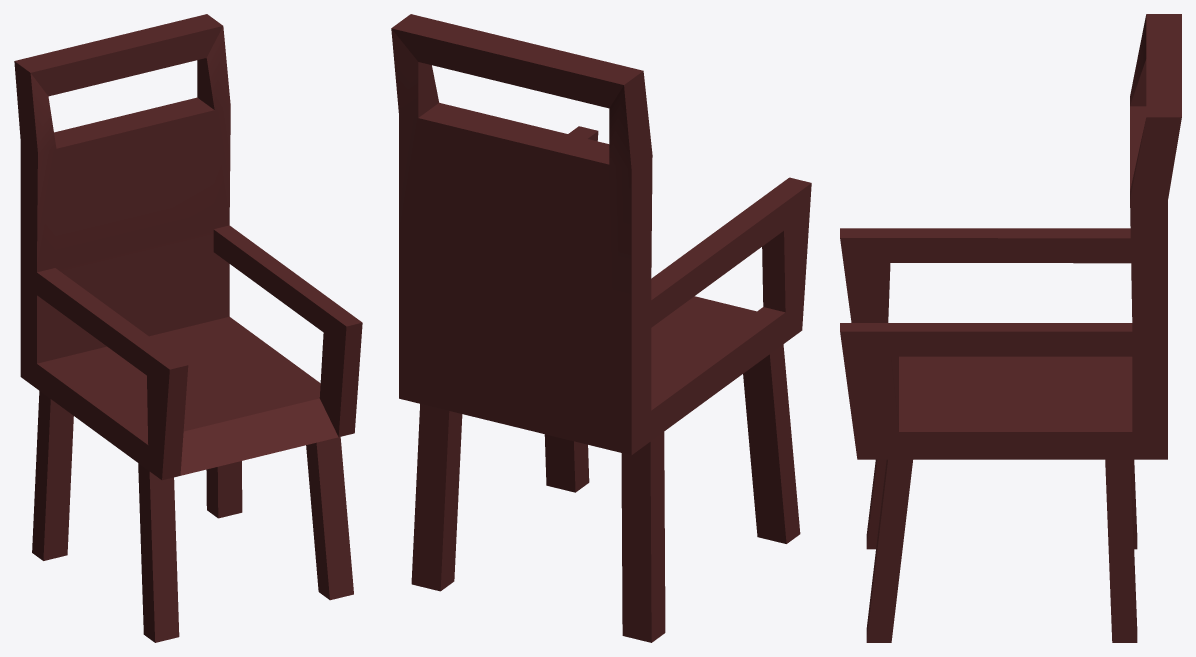
Rendered from Sandalyemiz.fbx.
3 renders of one model, left to right at view 1: azimuth 30°, elevation 25°; view 2: azimuth 150°, elevation 25°; view 3: azimuth 270°, elevation 25°, orthographic. The views are drawn at different scales.
Parts seen in each view (by area): view 1: pCube6; view 2: pCube6; view 3: pCube6.
Part boxes in pixels (x1=…): pCube6: x1=14, y1=14, x2=362, y2=642; pCube6: x1=391, y1=14, x2=811, y2=642; pCube6: x1=840, y1=14, x2=1181, y2=642.
Size of the model in its own units: 1.03 by 2.36 by 1.4.
